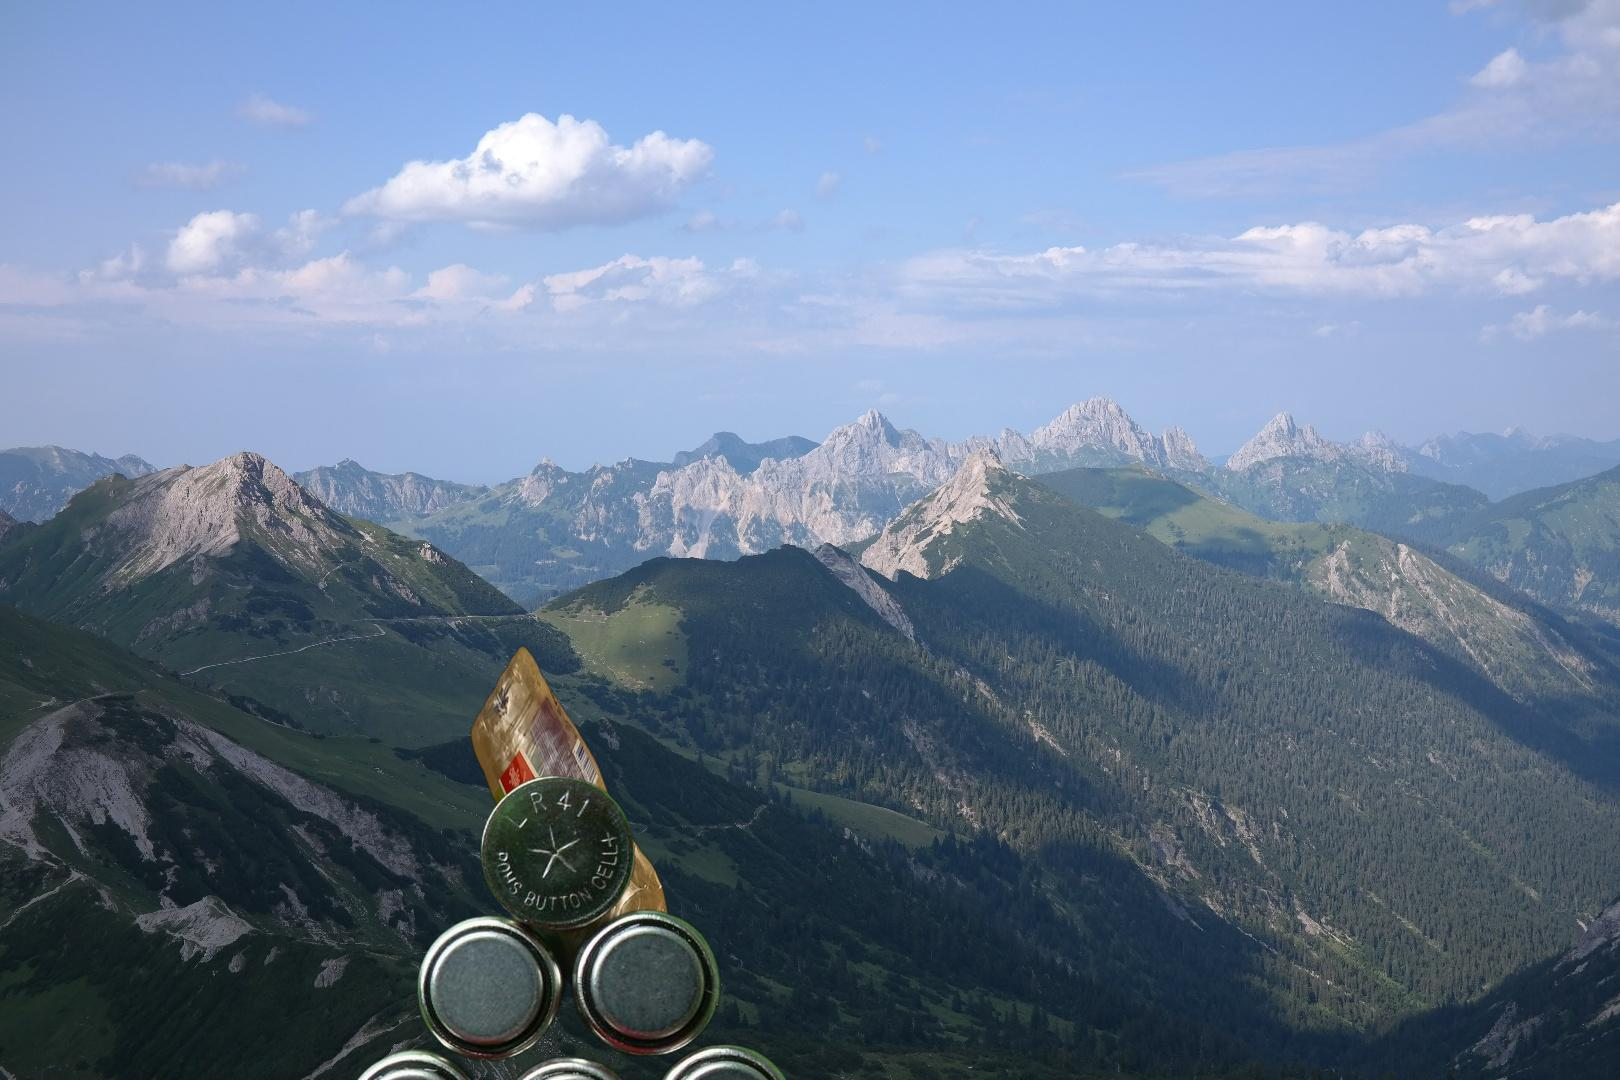battery: (339, 771, 802, 1080)
plastic-bottles: (469, 641, 691, 1040)
